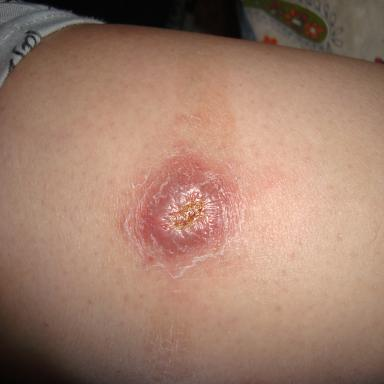Leishmanios: (125, 156, 241, 275)
